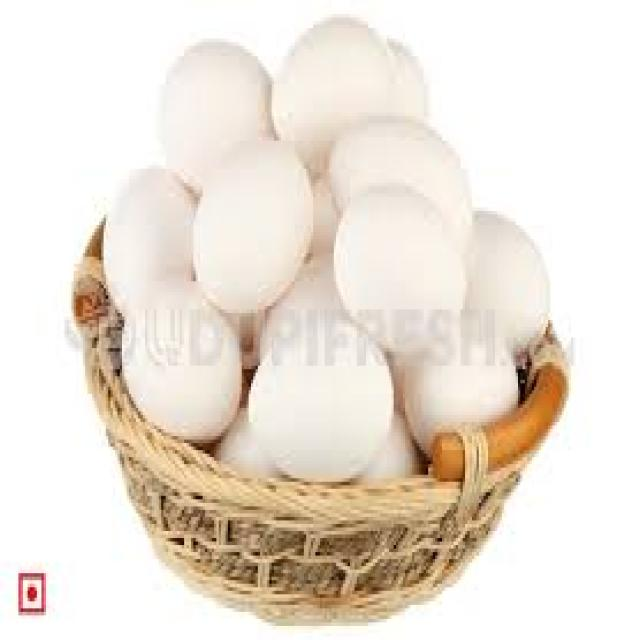White Egg: (249, 317, 395, 478), (194, 146, 323, 316), (115, 282, 248, 443), (331, 186, 469, 336), (273, 9, 396, 142), (409, 312, 516, 446), (465, 195, 556, 350)
